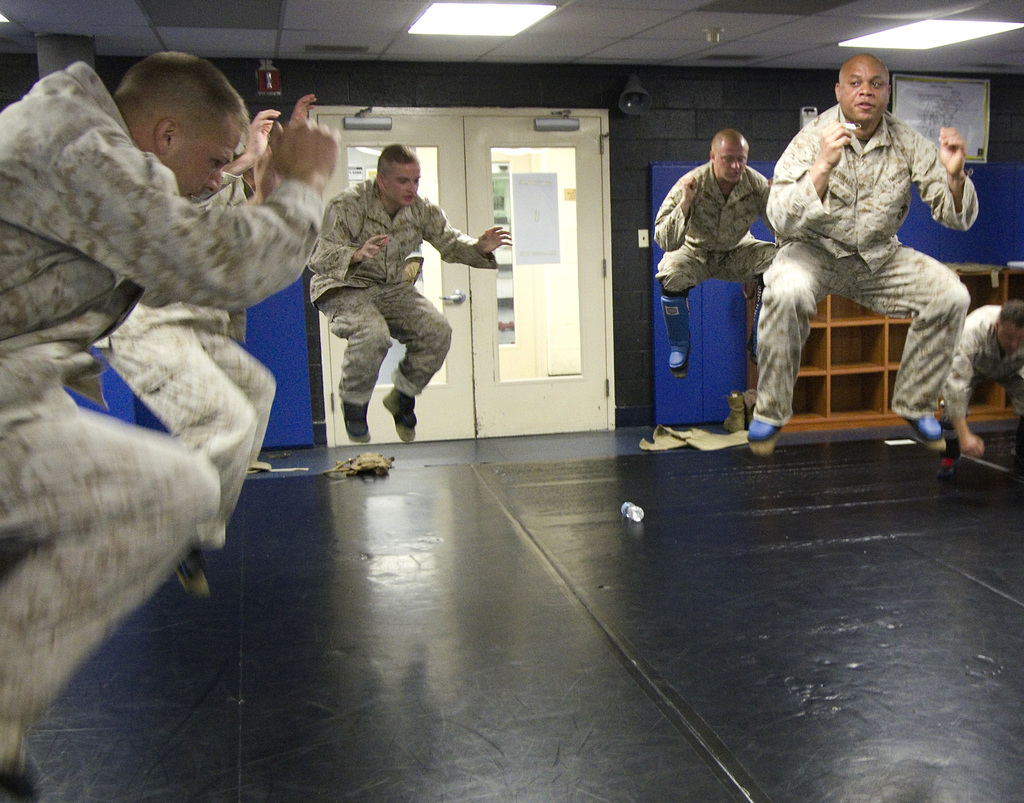Person: (0, 51, 339, 803), (746, 51, 980, 450), (94, 107, 281, 598), (307, 144, 518, 441), (653, 128, 779, 377), (940, 298, 1024, 475)
